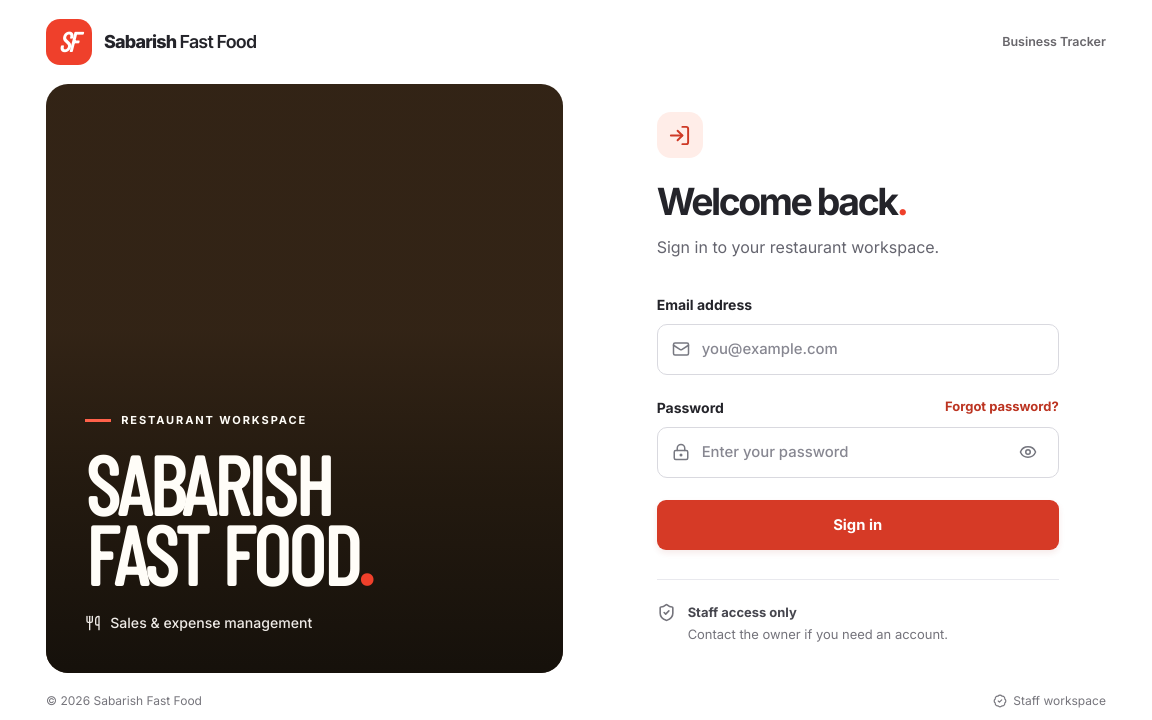
it: Staff sign in › keeps inputs after a failed sign in and exposes a labelled password toggle
Type "staff@example.test" into the field labelled "Email address".
click(873, 349); type("staff@example.test")  # box [702,325,1044,374]
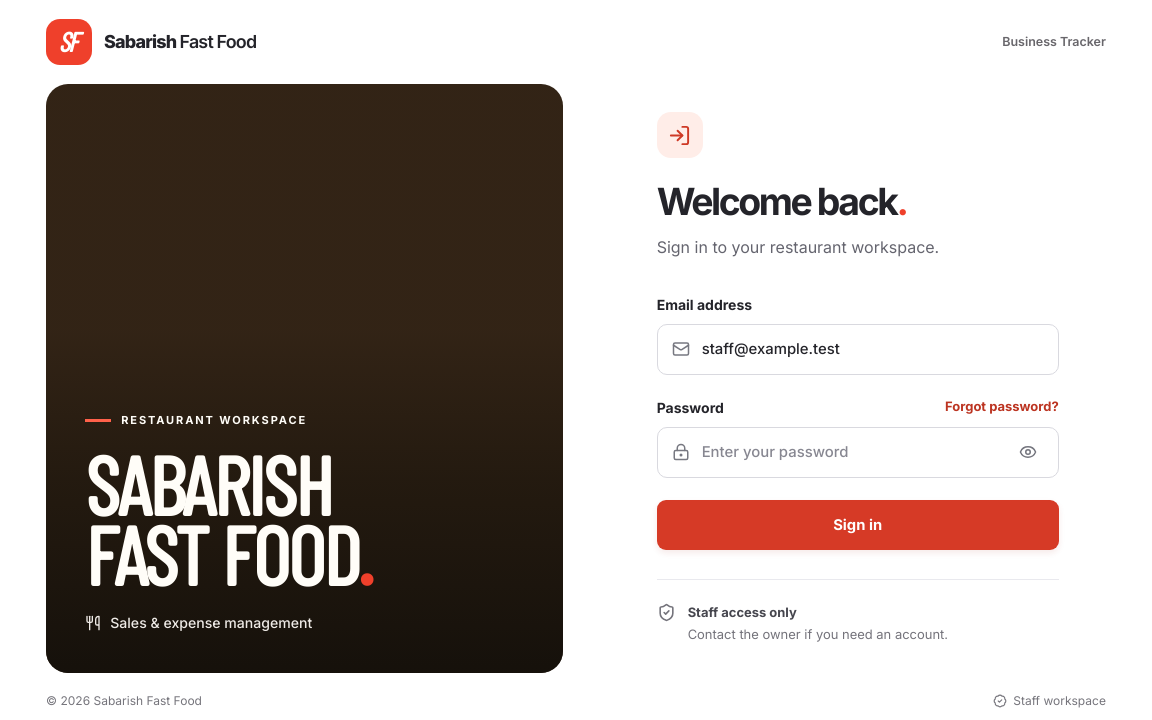
Type "test-password" into the password field labelled "Password".
click(851, 452); type("test-password")  # box [702,428,1000,477]
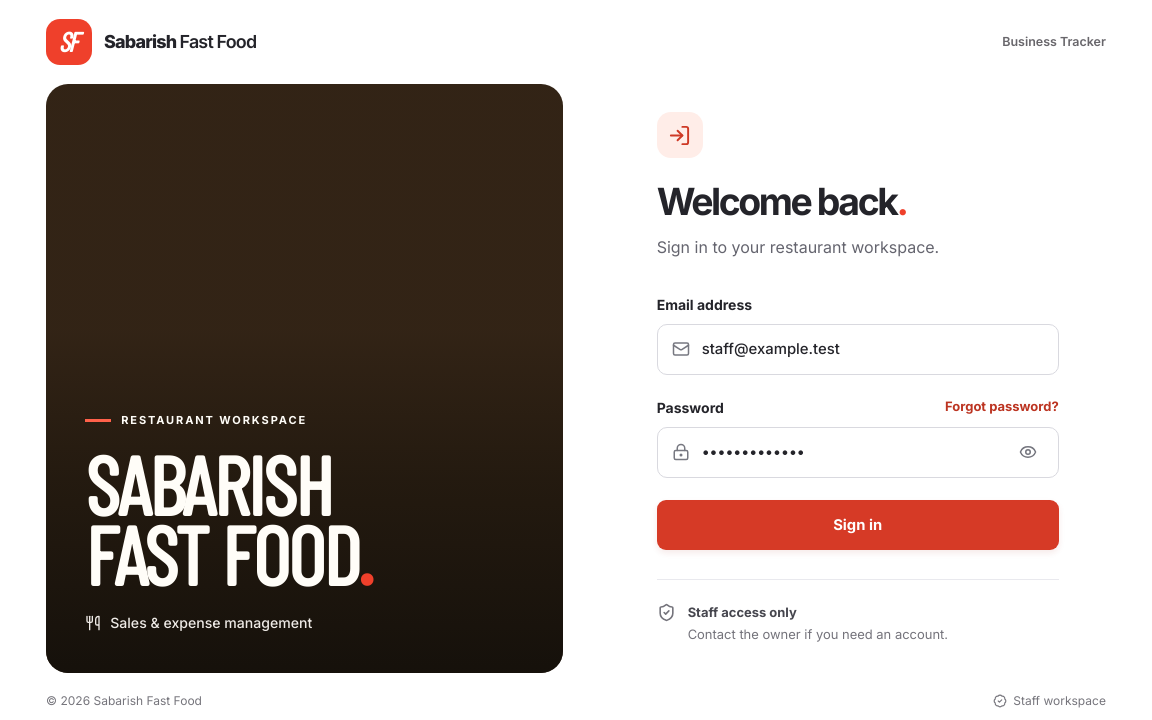
Click the button named "Show password".
click(1028, 452)  # box [1012,432,1044,472]
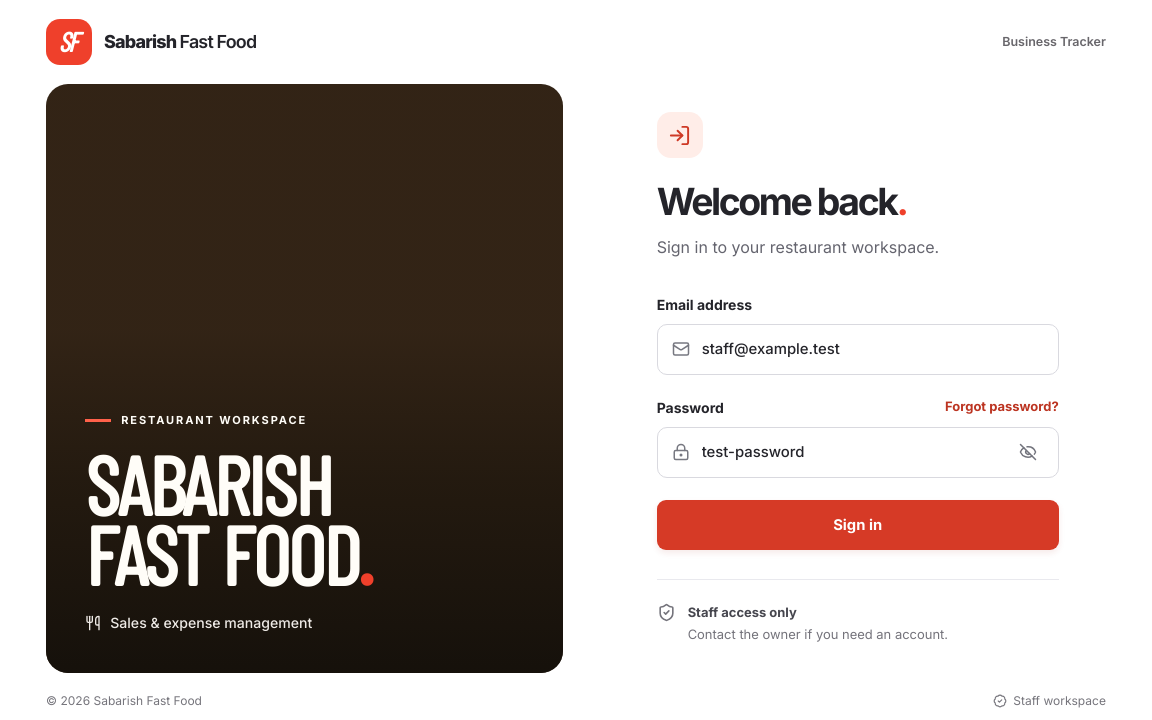
Click the button "Sign in".
click(858, 525)  # box [657,500,1059,550]
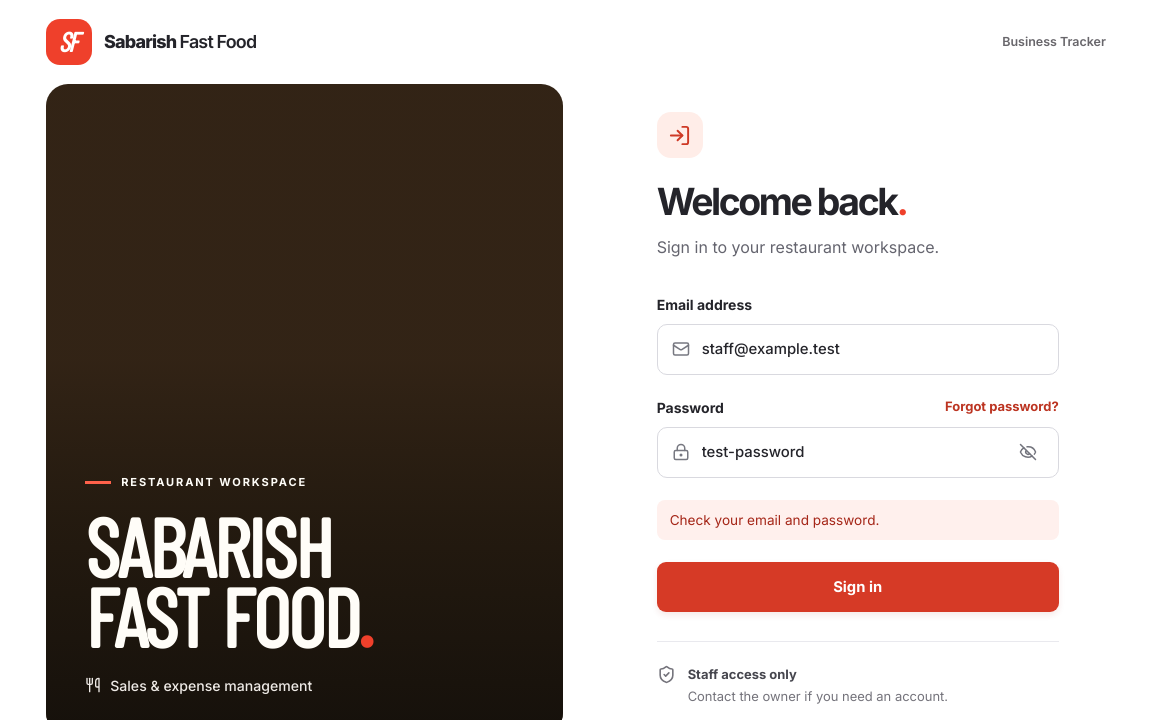
Expected: the message reads "Check your email and password.", [670,512,879,528]
